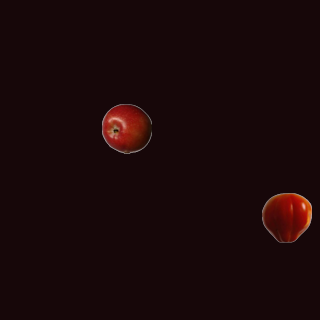Apple Braeburn: (101, 103, 151, 153)
Tomato 1: (261, 192, 311, 242)
